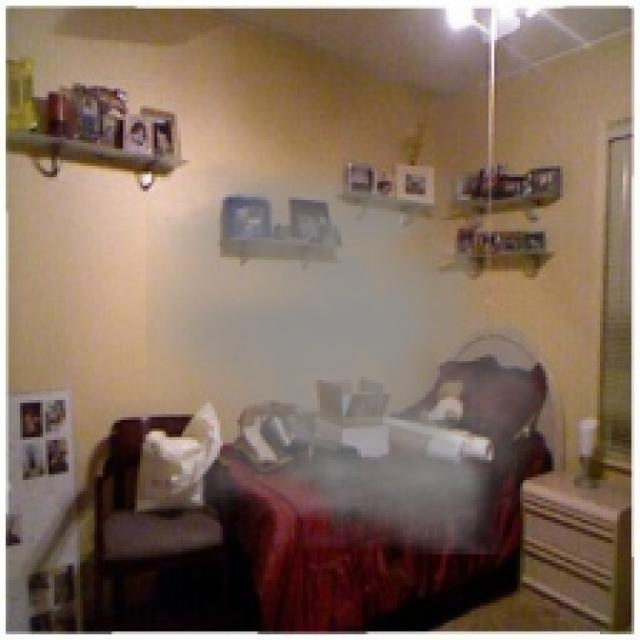smoke: (146, 160, 571, 554)
